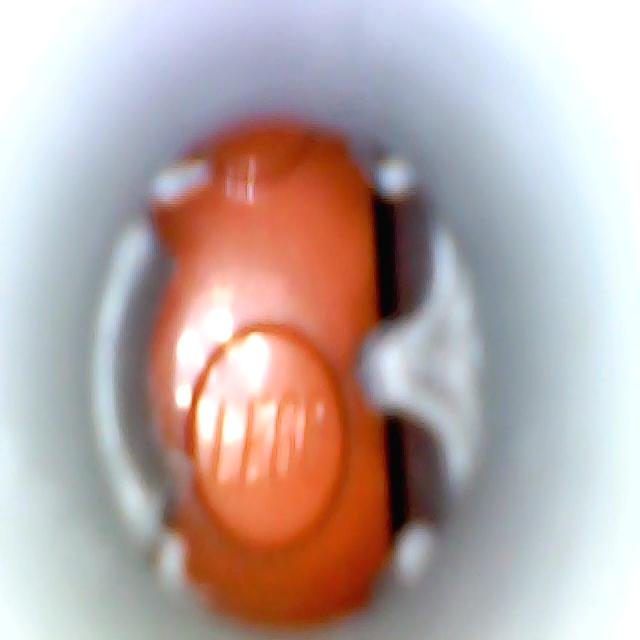studs: (189, 328, 345, 547), (209, 123, 316, 183)
